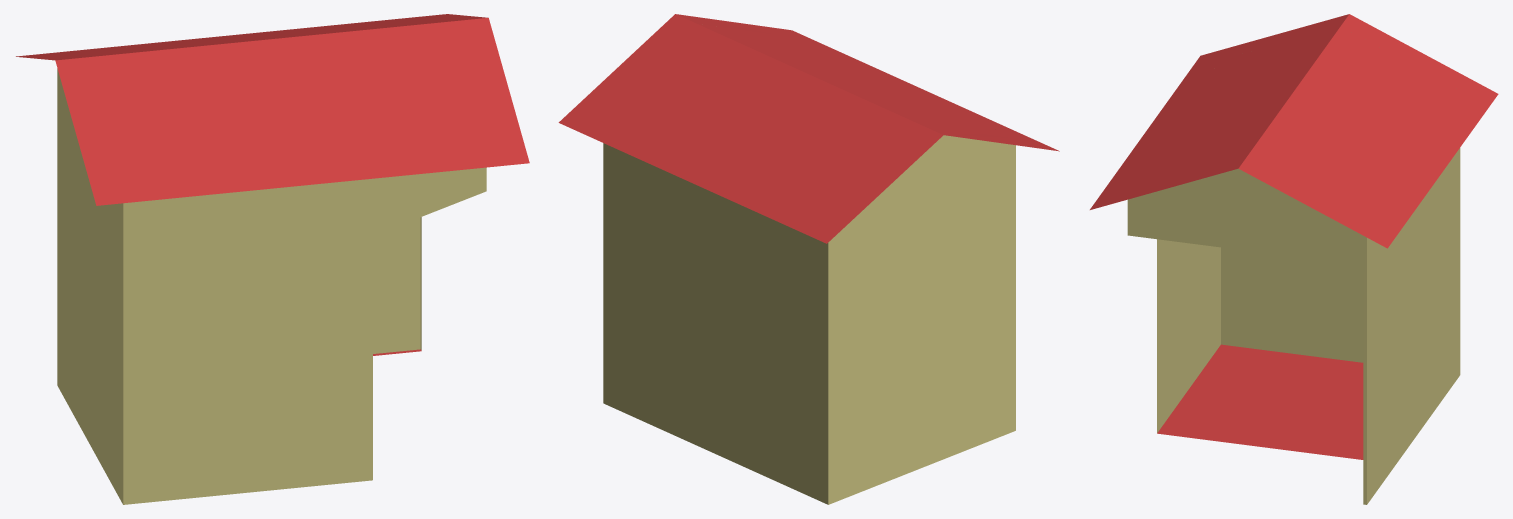
3 views of the same model, side by side, from view 1: azimuth 30°, elevation 25°; view 2: azimuth 150°, elevation 25°; view 3: azimuth 270°, elevation 25° (orthographic). The views are drawn at different scales.
Parts seen in each view (by area): view 1: group_5, group_3, group_4; view 2: group_5, group_3, group_4; view 3: group_5, group_3, group_6, group_4.
Boxes of the visible parts, x1,y1,x2,y2 form: group_5: (57, 68, 486, 504); group_3: (19, 14, 529, 205); group_4: (16, 18, 526, 205); group_5: (603, 135, 1015, 504); group_3: (558, 14, 1014, 243); group_4: (676, 14, 1059, 243); group_5: (1127, 148, 1460, 504); group_3: (1090, 14, 1498, 248); group_6: (1157, 344, 1363, 459); group_4: (1090, 14, 1497, 209).
Size of the model in its own units: 14.81 by 13.28 by 11.94.
